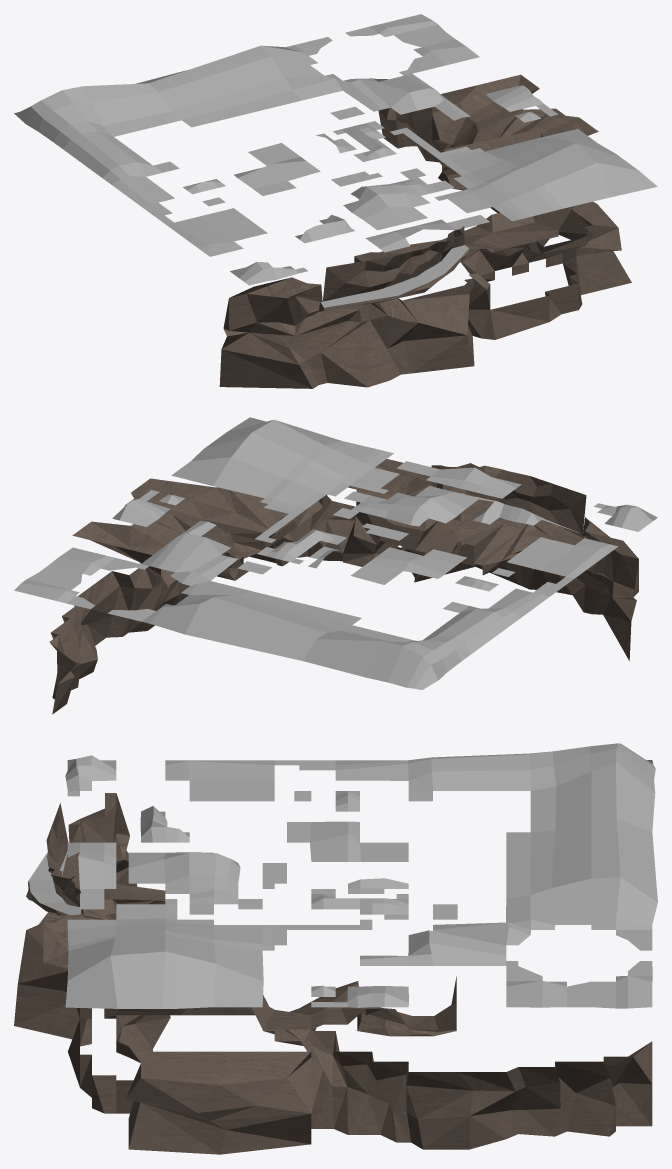
Rendered from Overland_Model.fbx.
3 renders of one model, top to bottom at view 1: azimuth 30°, elevation 25°; view 2: azimuth 150°, elevation 25°; view 3: azimuth 270°, elevation 25°, orthographic. The views are drawn at different scales.
Visible parts, largest first — view 1: Top, Side, Road; view 2: Top, Side, Road; view 3: Top, Side, Road.
Part boxes in pixels (box(x1,y1,x2,y2)): Top: box(14, 14, 657, 285); Side: box(219, 74, 631, 388); Road: box(319, 239, 469, 311); Top: box(14, 417, 657, 689); Side: box(49, 459, 638, 714); Road: box(430, 485, 586, 543); Top: box(65, 743, 657, 1008); Side: box(14, 793, 652, 1154); Road: box(26, 851, 154, 919).
Bounding box in the file's own units: 40559 × 13328 × 42301.
